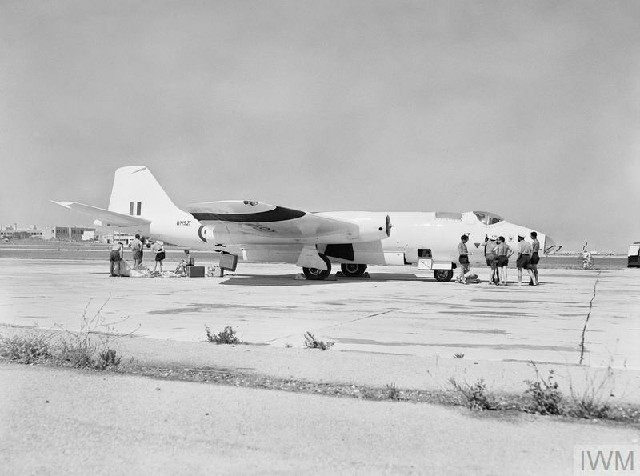maybay_khongnguoilai: (71, 164, 564, 285)
